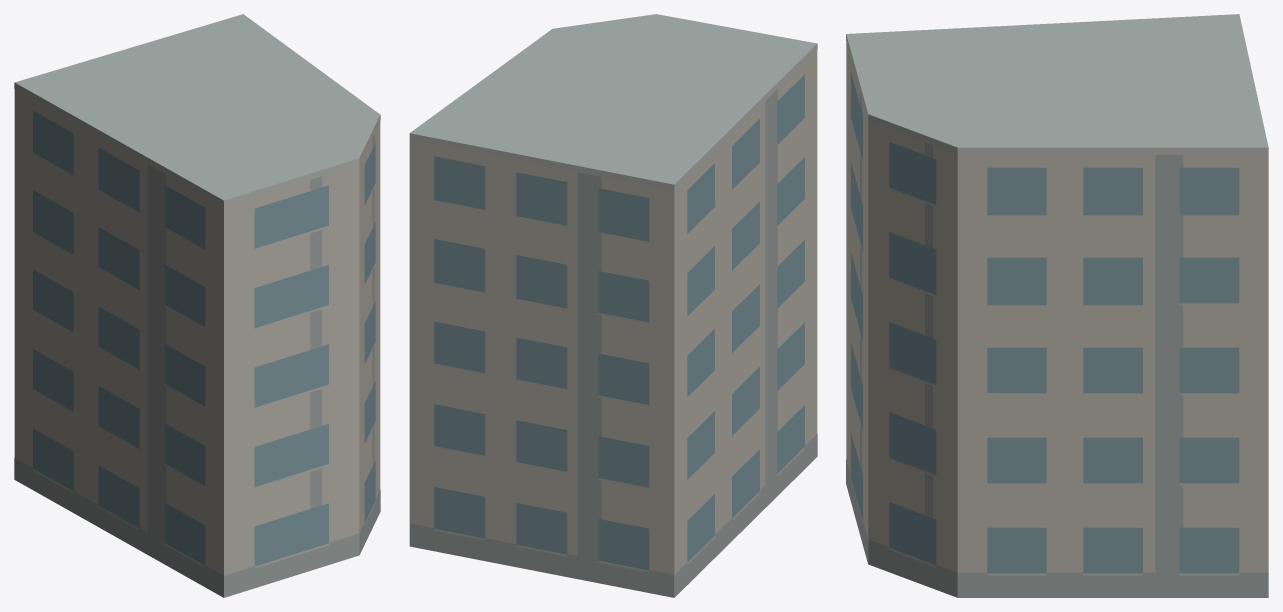
Rendered from survey-upis-32980259.glb.
The picture shows the model from 3 angles, left to right: view 1: azimuth 30°, elevation 25°; view 2: azimuth 150°, elevation 25°; view 3: azimuth 270°, elevation 25°; orthographic projection. The views are drawn at different scales.
Visible parts, largest first — view 1: survey-upis-32980259.tmp; view 2: survey-upis-32980259.tmp; view 3: survey-upis-32980259.tmp.
Boxes of the visible parts, x1,y1,x2,y2 form: survey-upis-32980259.tmp: (14, 14, 380, 597); survey-upis-32980259.tmp: (409, 14, 817, 597); survey-upis-32980259.tmp: (846, 14, 1268, 597).
Bounding box in the file's own units: 9.88 × 15.5 × 13.19.
